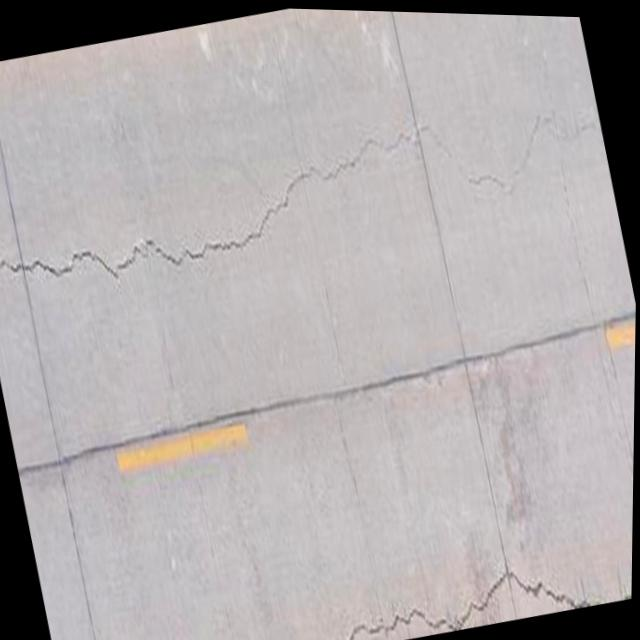Crack: (0, 127, 358, 322), (297, 491, 634, 640)
